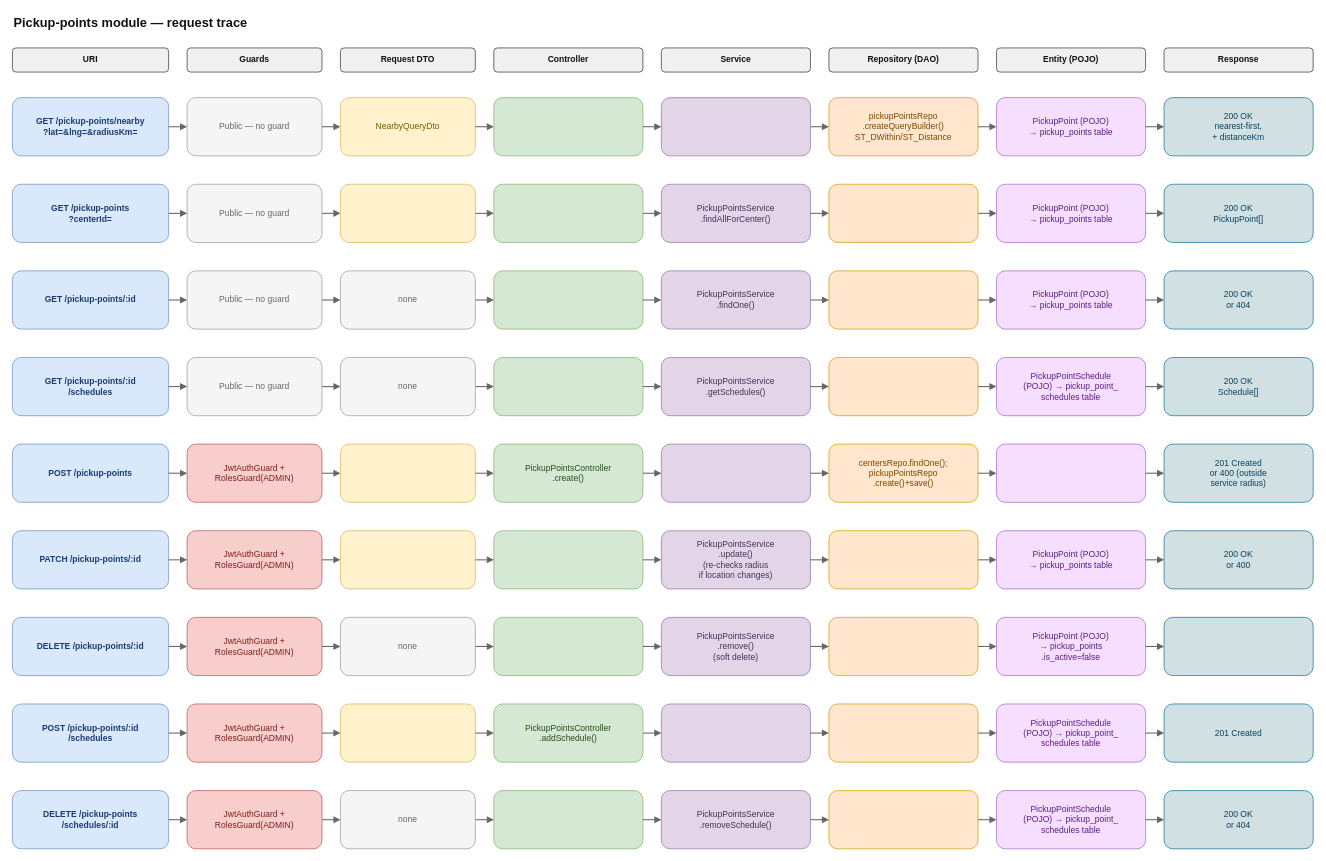
Some shapes in this 1326 by 861 pixel diagram are drawn without their labels. Here are the shapes that lost their labels. From the top down, the box of each, then its label:
(493, 97, 643, 156): PickupPointsController .findNearby()
(661, 97, 810, 156): PickupPointsService .findNearby()
(340, 184, 475, 242): none (Query)
(493, 184, 643, 242): PickupPointsController .findForCenter()
(828, 184, 978, 242): pickupPointsRepo .find() {where: centerId, isActive}
(493, 270, 643, 329): PickupPointsController .findOne()
(828, 270, 978, 329): pickupPointsRepo .findOne() {where: id}
(493, 357, 643, 416): PickupPointsController .getSchedules()
(828, 357, 978, 416): schedulesRepo.find() {where: pickupPointId}
(340, 443, 475, 502): CreatePickupPointDto
(661, 443, 810, 502): PickupPointsService .create() (radius check via ST_Distance)
(996, 443, 1146, 502): DiagnosticCenter + PickupPoint (POJOs) → pickup_points table
(340, 530, 475, 589): UpdatePickupPointDto
(493, 530, 643, 589): PickupPointsController .update()
(828, 530, 978, 589): pickupPointsRepo .findOne()+save(); centersRepo.findOne()
(493, 617, 643, 676): PickupPointsController .remove()
(828, 617, 978, 676): pickupPointsRepo .findOne()+save()
(1163, 617, 1313, 676): 200 OK
(340, 703, 475, 762): CreateScheduleDto
(661, 703, 810, 762): PickupPointsService .addSchedule()
(828, 703, 978, 762): schedulesRepo .create()+save()
(493, 790, 643, 849): PickupPointsController .removeSchedule()
(828, 790, 978, 849): schedulesRepo .delete(id)
